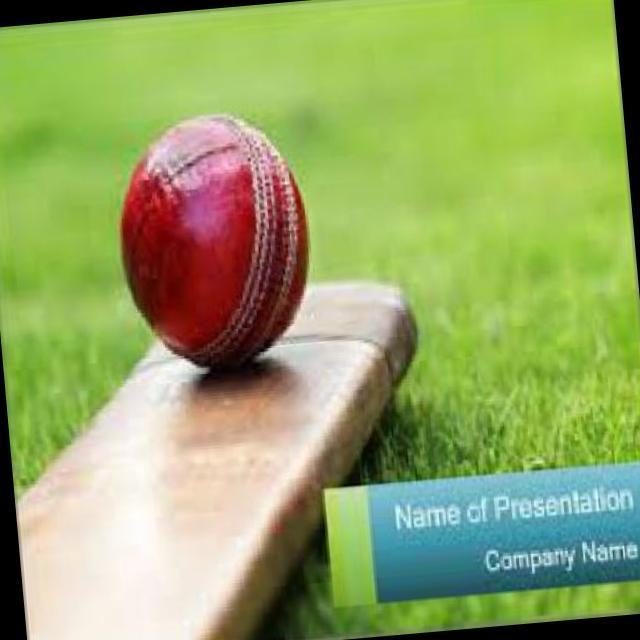-: (98, 96, 351, 395)
